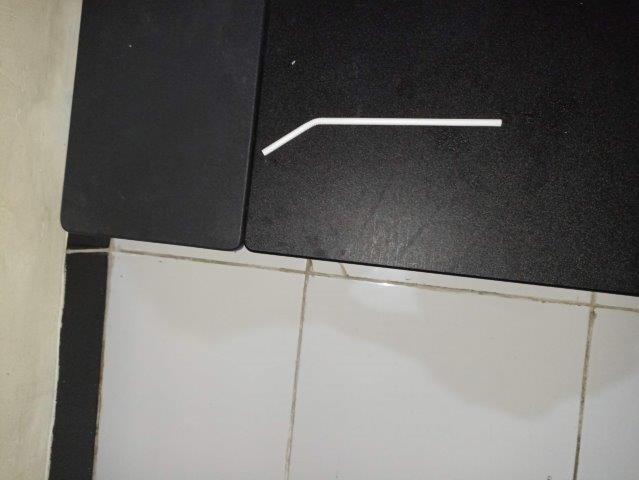sedotan: (262, 117, 502, 156)
